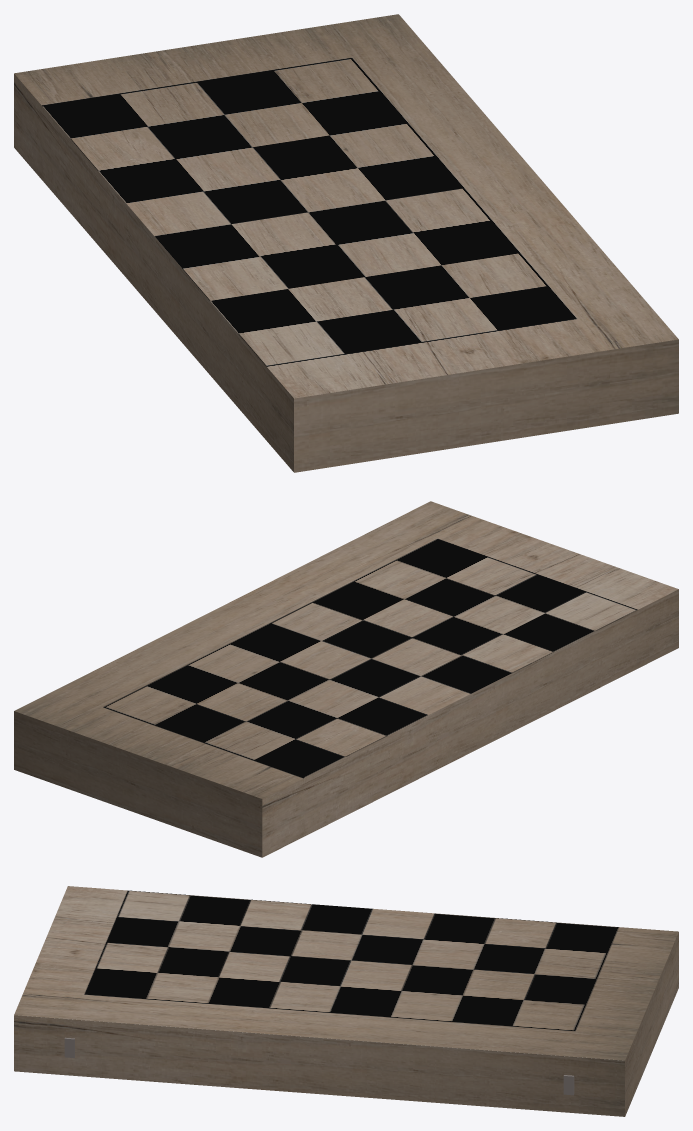
Rendered from Checker.gltf.
The picture shows the model from 3 angles, top to bottom: view 1: azimuth 30°, elevation 25°; view 2: azimuth 150°, elevation 25°; view 3: azimuth 270°, elevation 25°; orthographic projection. The views are drawn at different scales.
Parts seen in each view (by area): view 1: Checker; view 2: Checker; view 3: Checker.
Part boxes in pixels (x1,y1,x2,y2): Checker: [14, 14, 678, 472]; Checker: [14, 501, 678, 857]; Checker: [14, 886, 678, 1116].
Bounding box in the file's own units: 2.24 × 0.336 × 3.6.
Materials: 2 (1 with a texture image).
